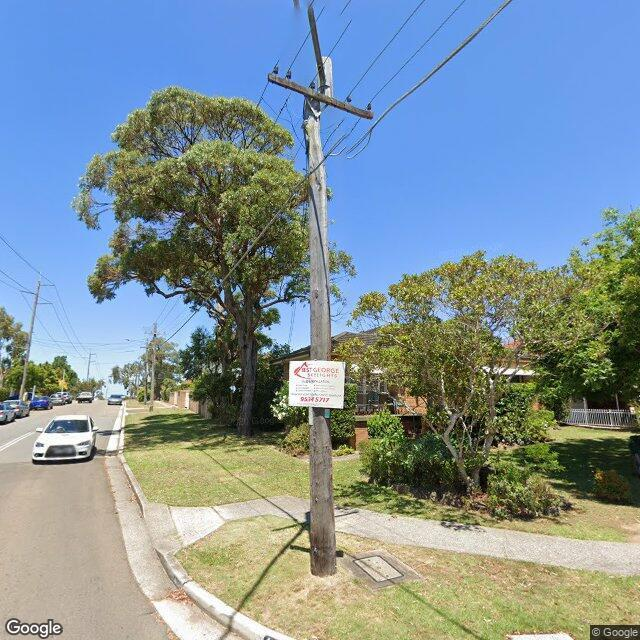HV-transmission: (19, 283, 55, 304), (81, 353, 96, 362)
crossarm: (267, 74, 373, 122), (140, 346, 158, 348)
timber-pole: (302, 56, 336, 578), (19, 281, 40, 399), (150, 321, 158, 412), (144, 340, 148, 406), (86, 352, 91, 380)
